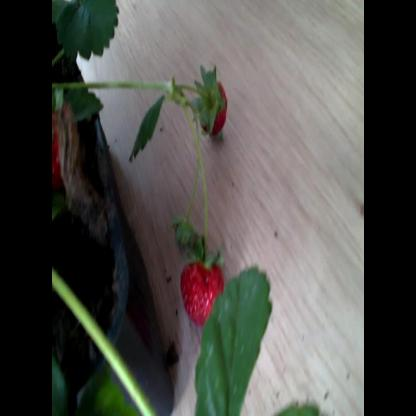ripe: (181, 262, 223, 328), (198, 85, 228, 136)
